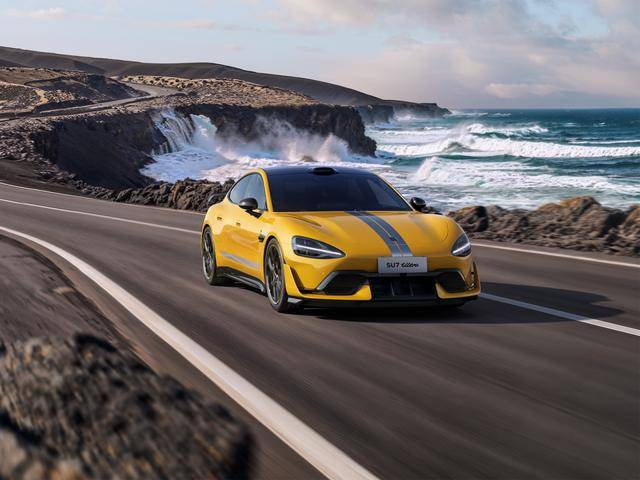su7: (196, 163, 479, 311)
